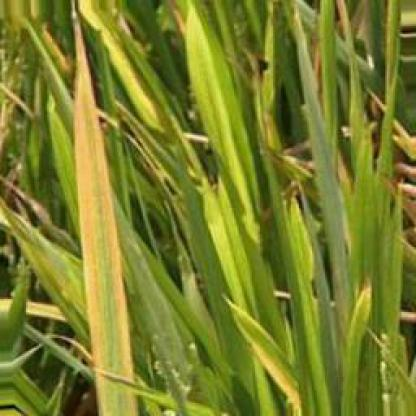Tungro: (68, 3, 140, 414), (227, 300, 305, 411)
